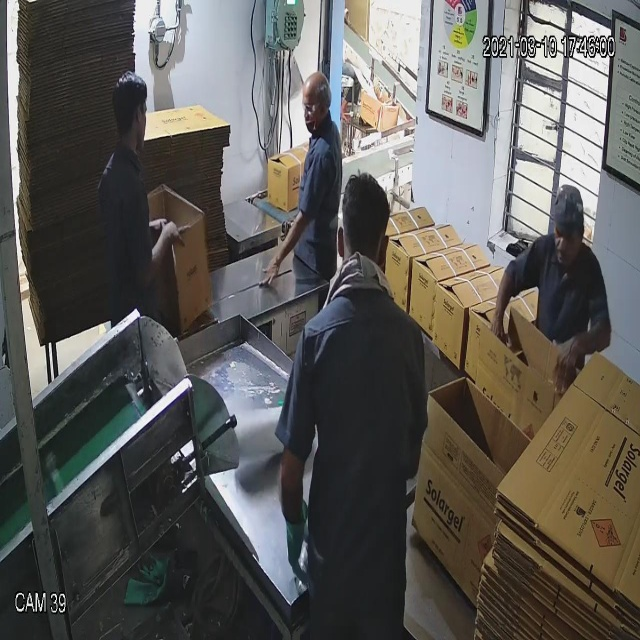Sin_guantes: (251, 191, 323, 290), (551, 307, 620, 392), (130, 214, 190, 292), (478, 255, 522, 355)
